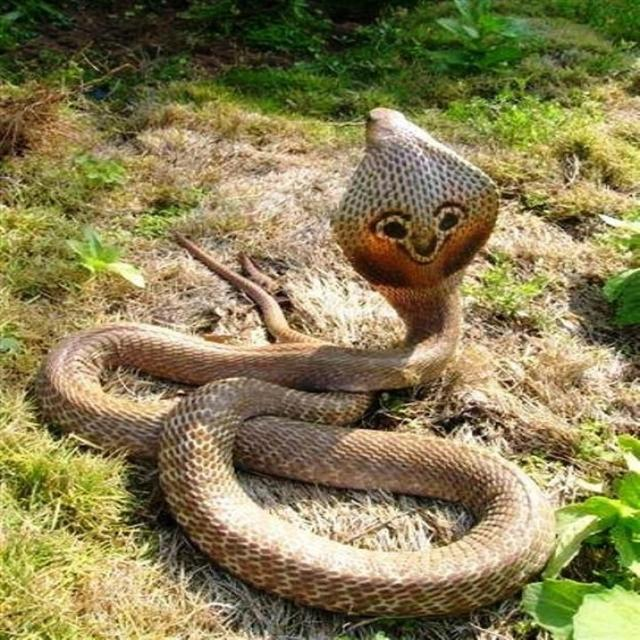Snake: (27, 87, 582, 640)
